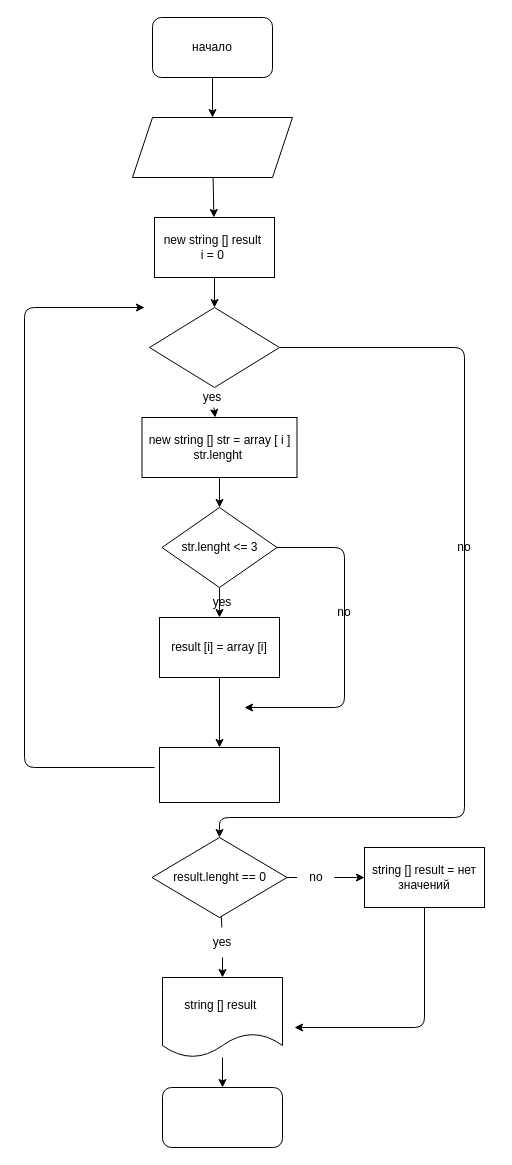
Some shapes in this 512 by 1165 pixel diagram are drawn without their labels. Each missing label, with the box of its shape:
i < array.lenght: (148, 306, 280, 388)
i++: (158, 746, 280, 802)
new string [] array array.lenght: (132, 116, 292, 178)
Конец: (162, 1086, 282, 1148)
